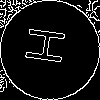H: (25, 25, 75, 68)
